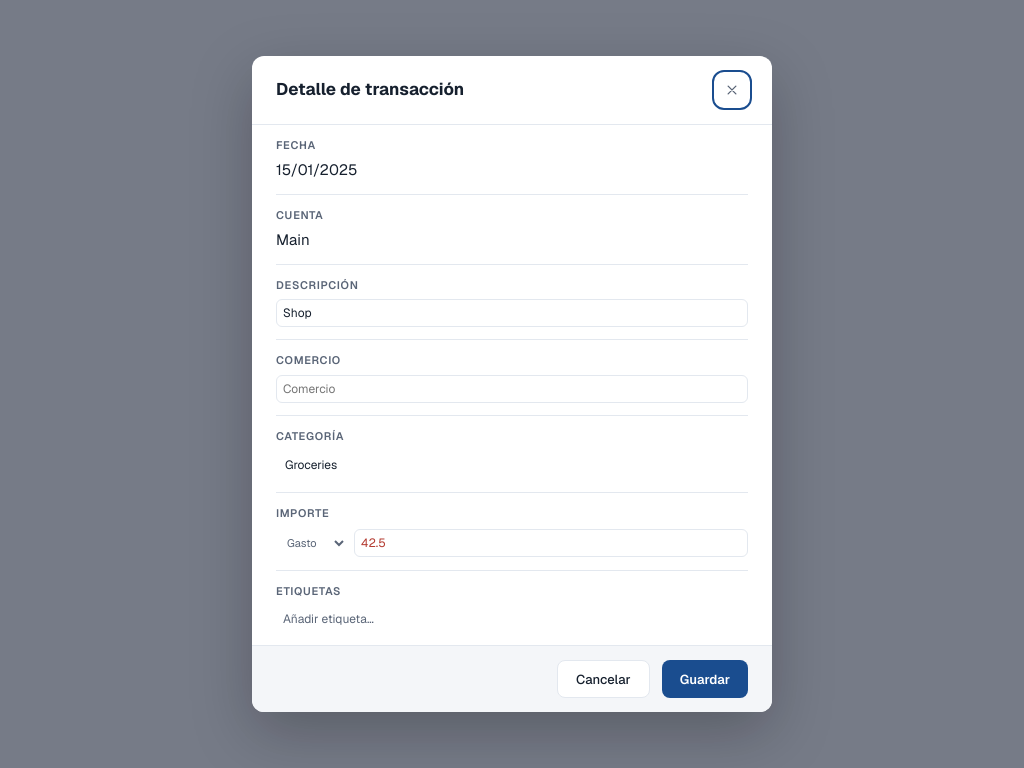
Test case: refuses to save a cleared amount instead of storing zero
Clear the field labelled "Importe" at [551, 543], box [354,529,748,557]
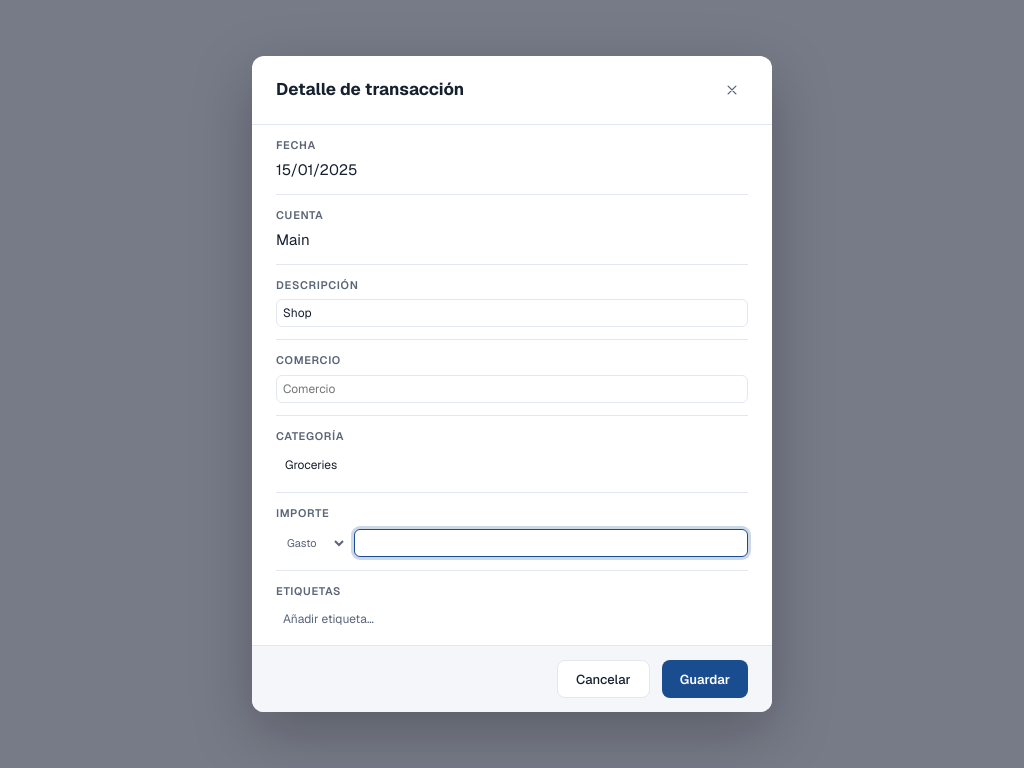
Click the button "Guardar" at [705, 679], box [662,660,748,698]
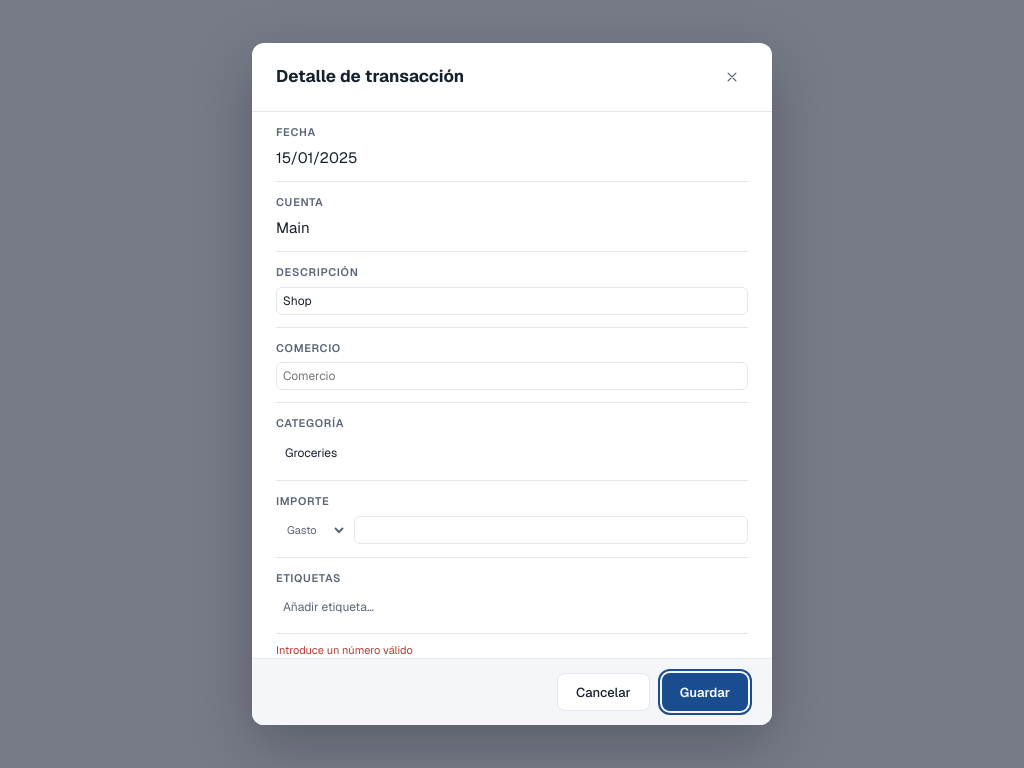
Now the text "Introduce un número válido" is shown, box [276,642,413,656]
